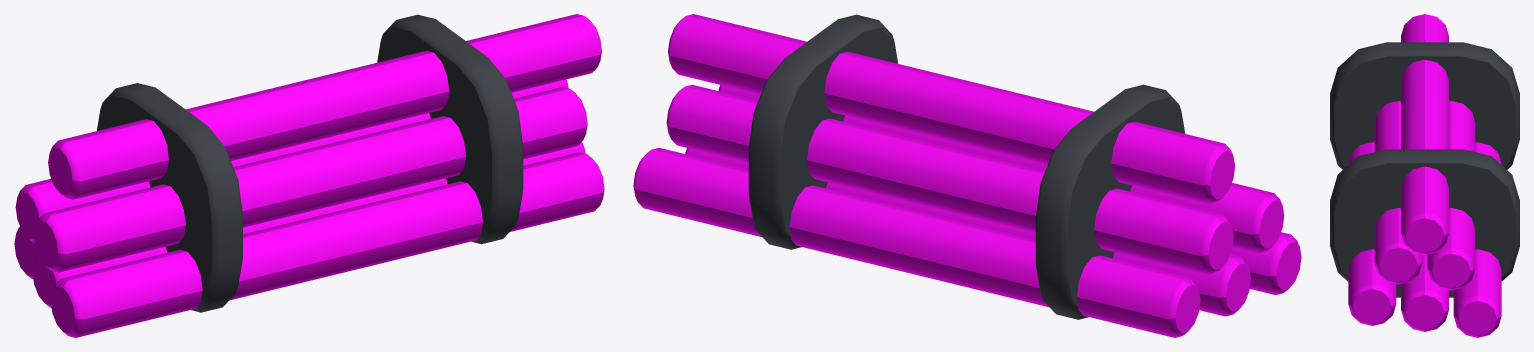
The model's file is objet_tige.glb.
3 renders of one model, left to right at view 1: azimuth 30°, elevation 25°; view 2: azimuth 150°, elevation 25°; view 3: azimuth 270°, elevation 25°, orthographic. The views are drawn at different scales.
Parts seen in each view (by area): view 1: tiges_teinte.002, tiges_teinte_sombre.002; view 2: tiges_teinte.002, tiges_teinte_sombre.002; view 3: tiges_teinte_sombre.002, tiges_teinte.002.
Boxes of the visible parts, x1=… form: tiges_teinte.002: x1=14, y1=14, x2=604, y2=337; tiges_teinte_sombre.002: x1=97, y1=14, x2=523, y2=312; tiges_teinte.002: x1=633, y1=14, x2=1301, y2=337; tiges_teinte_sombre.002: x1=748, y1=14, x2=1185, y2=319; tiges_teinte_sombre.002: x1=1330, y1=42, x2=1519, y2=297; tiges_teinte.002: x1=1348, y1=14, x2=1501, y2=337.
Size of the model in its own units: 0.36 by 0.11 by 0.135.
